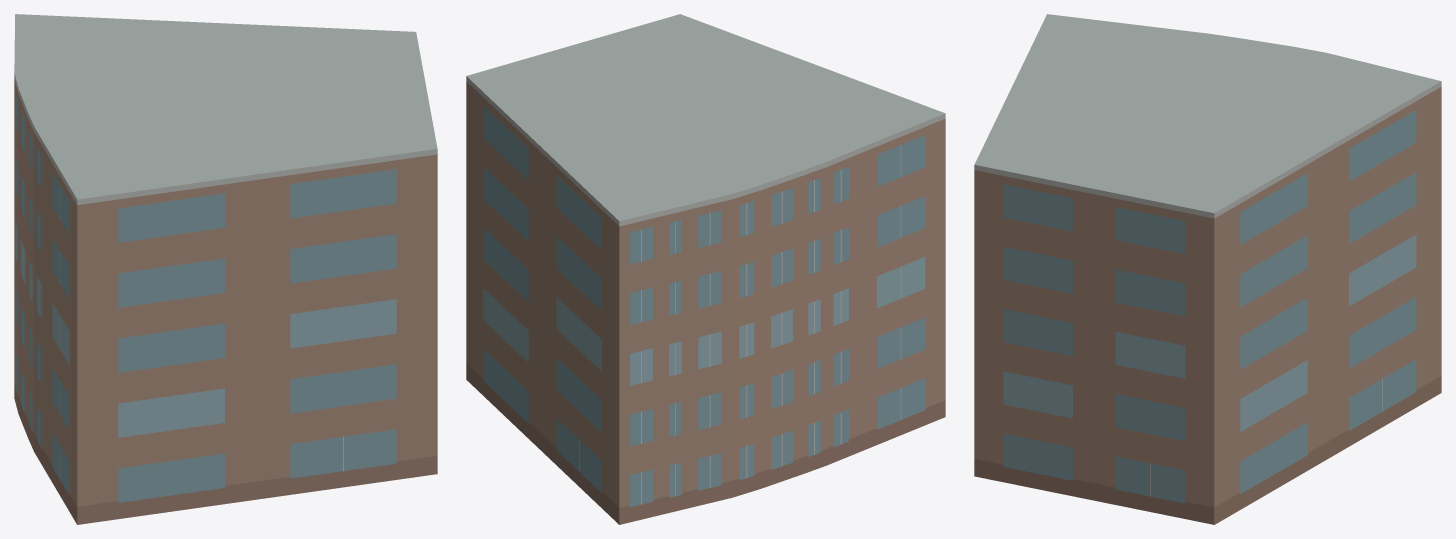
The model's file is survey-upis-33013115.glb.
The picture shows the model from 3 angles, left to right: view 1: azimuth 30°, elevation 25°; view 2: azimuth 150°, elevation 25°; view 3: azimuth 270°, elevation 25°; orthographic projection. The views are drawn at different scales.
Parts seen in each view (by area): view 1: survey-upis-33013115.tmp; view 2: survey-upis-33013115.tmp; view 3: survey-upis-33013115.tmp.
Boxes of the visible parts, bbox=[...] form: survey-upis-33013115.tmp: bbox=[14, 14, 437, 524]; survey-upis-33013115.tmp: bbox=[466, 14, 945, 524]; survey-upis-33013115.tmp: bbox=[974, 14, 1441, 524].
Bounding box in the file's own units: 19.76 × 14.4 × 19.58.
